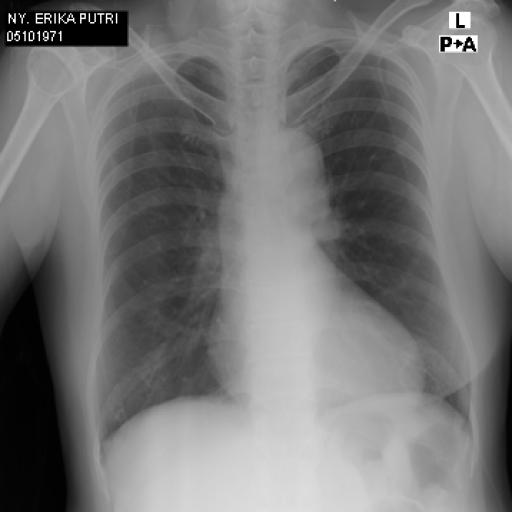kardiomegali: (78, 20, 480, 465)
